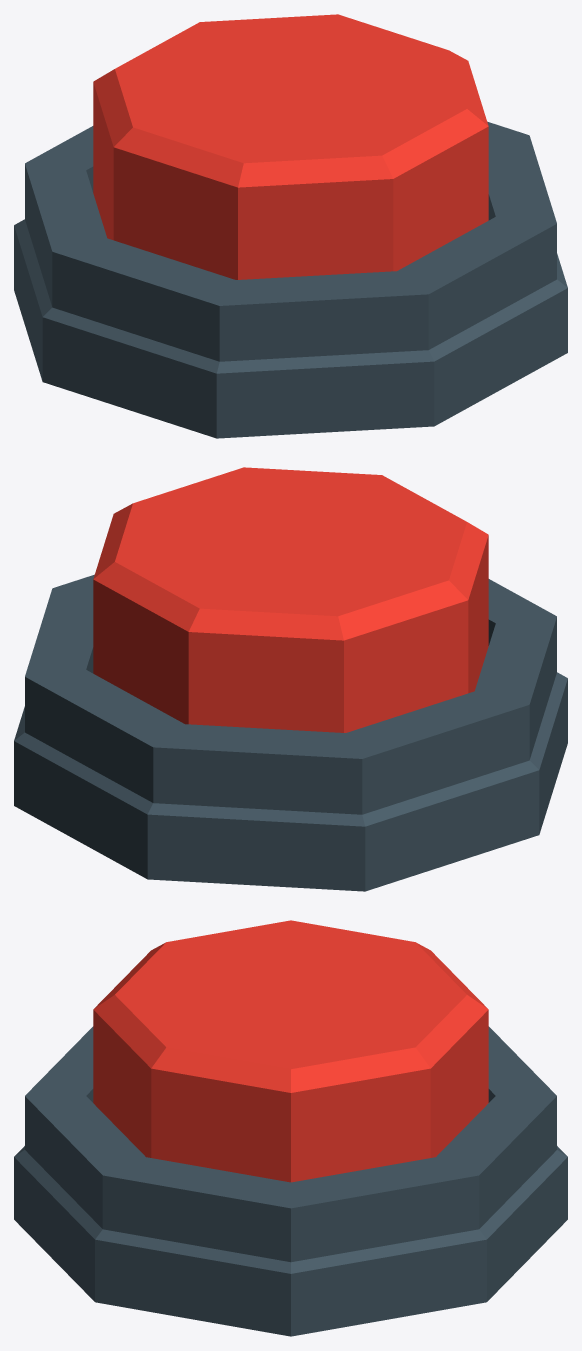
The model's file is button.fbx.
3 renders of one model, top to bottom at view 1: azimuth 30°, elevation 25°; view 2: azimuth 150°, elevation 25°; view 3: azimuth 270°, elevation 25°, orthographic. The views are drawn at different scales.
Visible parts, largest first — view 1: Button_Circle; view 2: Button_Circle; view 3: Button_Circle.
Part boxes in pixels (<box>): Button_Circle: <box>14,14,567,438</box>; Button_Circle: <box>14,467,567,891</box>; Button_Circle: <box>14,920,567,1336</box>.
Bounding box in the file's own units: 997 × 546 × 997.
